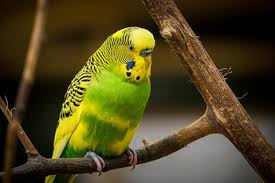budgie: (44, 26, 157, 183)
